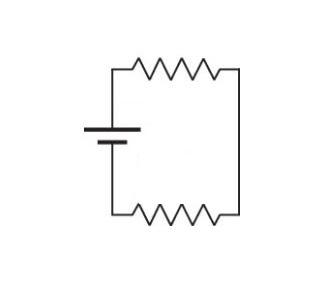resistor: (125, 196, 229, 236), (122, 50, 225, 88)
